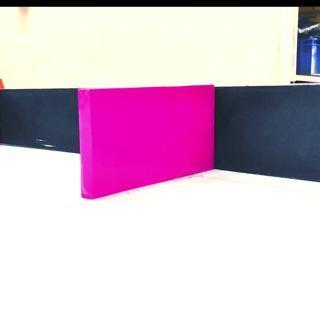xparking: (82, 90, 214, 180)
